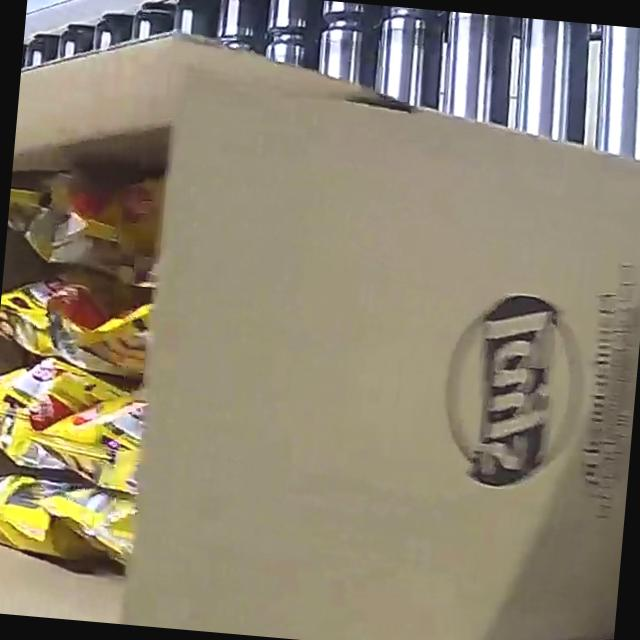salted: (0, 143, 206, 549)
